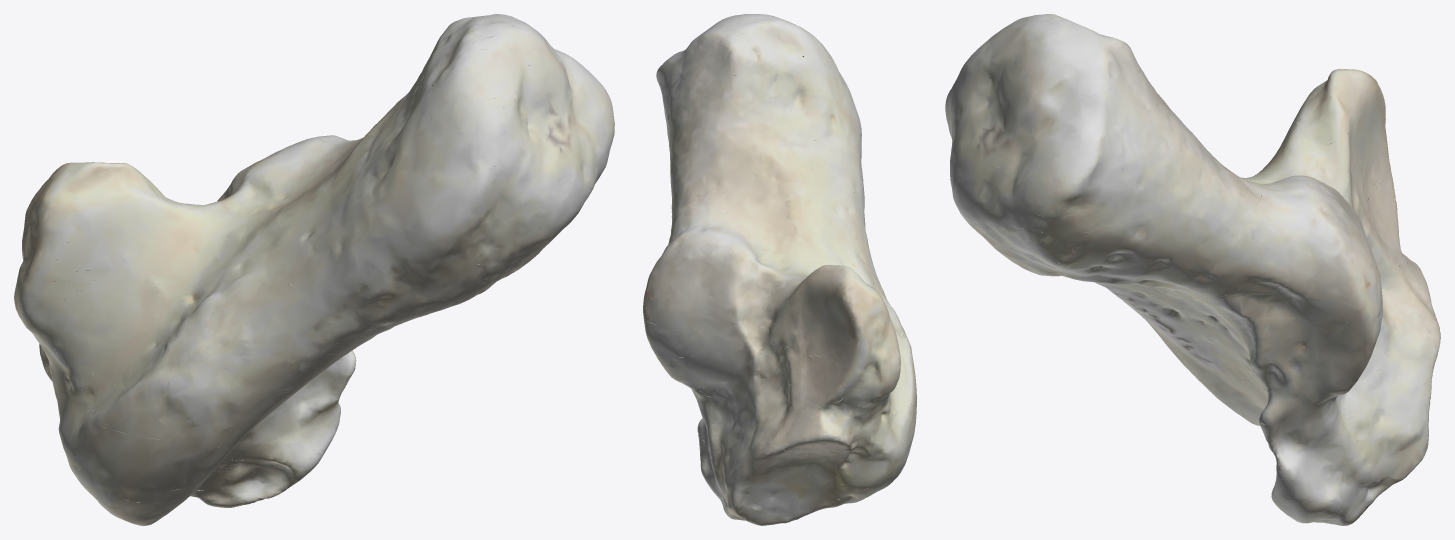
3 renders of one model, left to right at view 1: azimuth 30°, elevation 25°; view 2: azimuth 150°, elevation 25°; view 3: azimuth 270°, elevation 25°, orthographic. The views are drawn at different scales.
Parts seen in each view (by area): view 1: Geode; view 2: Geode; view 3: Geode.
Part boxes in pixels (x1,y1,x2,y2): Geode: (14,14,614,525); Geode: (643,14,916,525); Geode: (945,14,1440,525).
Size of the model in its own units: 47.65 by 54.73 by 43.77.
